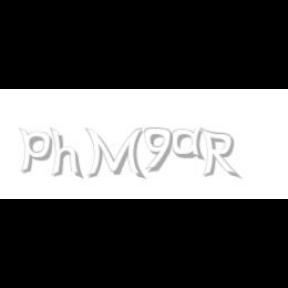9: (144, 128, 172, 172)
M: (84, 128, 144, 180)
R: (200, 128, 238, 180)
a: (172, 128, 210, 160)
h: (50, 128, 86, 180)
p: (20, 128, 56, 174)
